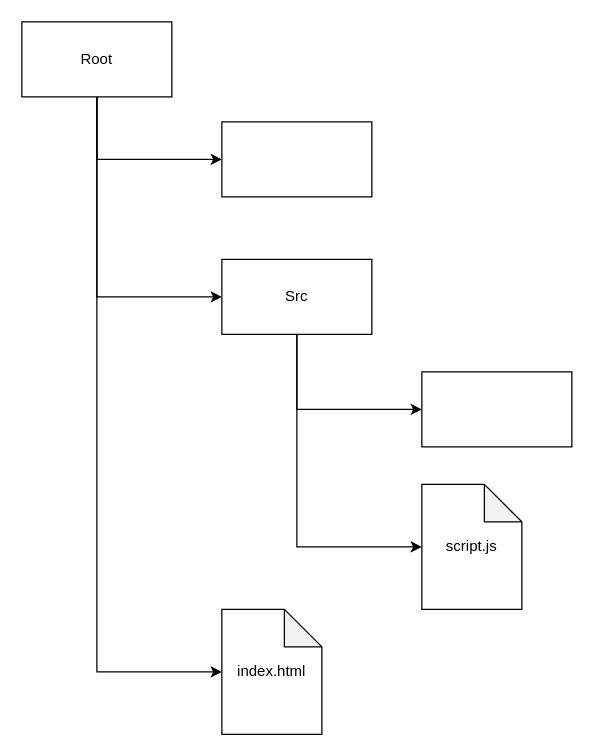
This 594x756 diagram has some shape labels left out. Here are the shapes that lost their labels. From the top down, the centre of each, then its label:
At pixel 296 159: "Assets".
At pixel 496 409: "Styles".
